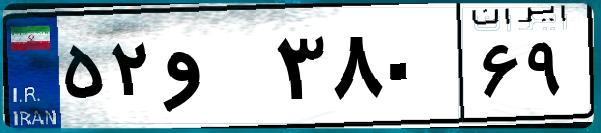0: (385, 28, 445, 110)
2: (110, 28, 158, 98)
3: (270, 28, 330, 110)
5: (57, 26, 110, 100)
6: (475, 38, 525, 113)
8: (330, 28, 385, 110)
9: (525, 38, 570, 115)
و: (158, 20, 270, 120)
